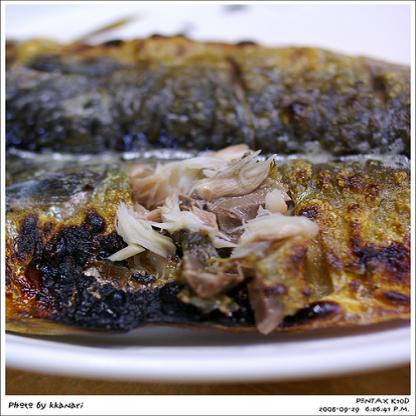Peixe: (0, 132, 416, 368), (0, 10, 416, 192)
